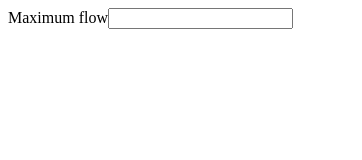
MathNumberInput › accepts a formula and commits the result on blur
Type "22.5 x 4" into the number field labelled "Maximum flow" at (200, 18), box [108,8,293,29]
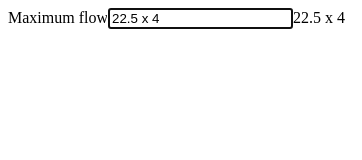
Result: the number field labelled "Maximum flow" has attribute title="Calculated result: 90" at [108,8,293,29]
Press Tab
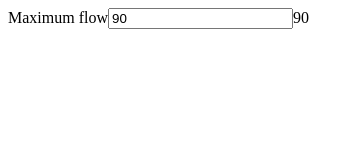
Result: the number field labelled "Maximum flow" holds "90" at [108,8,293,29]
Result: the text "90" is shown at [293,9,309,26]
